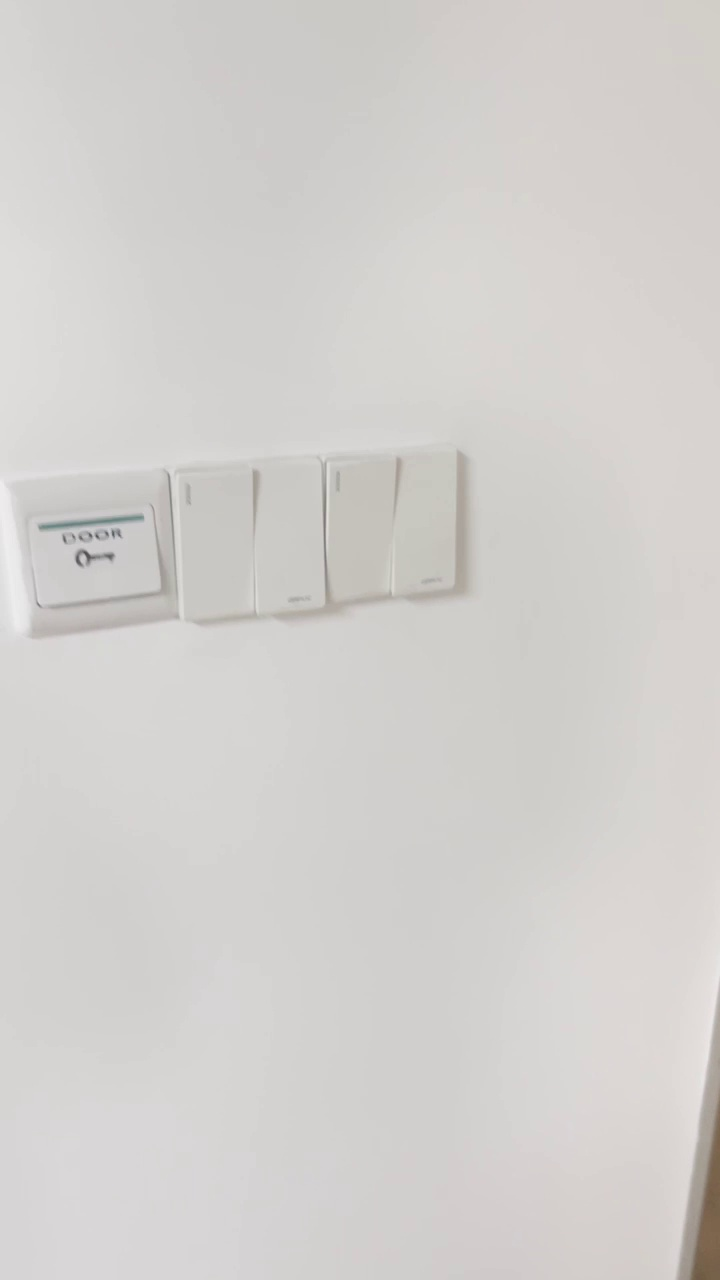button: (169, 452, 329, 624), (332, 443, 463, 604)
